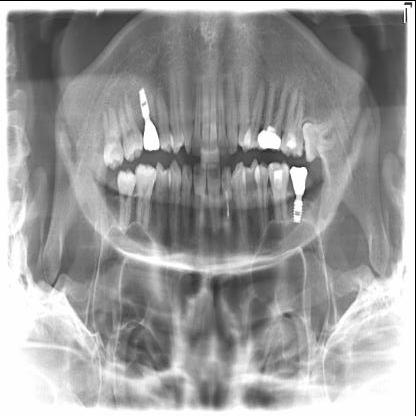Bicon: (138, 86, 154, 123), (292, 197, 306, 226)
